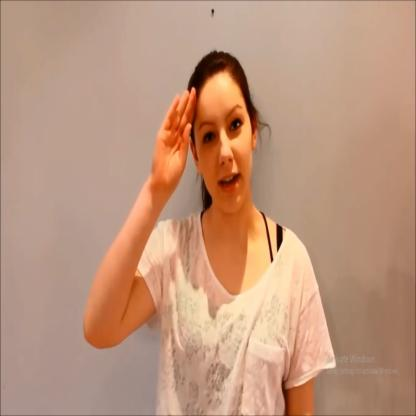Hello: (153, 37, 267, 227)
